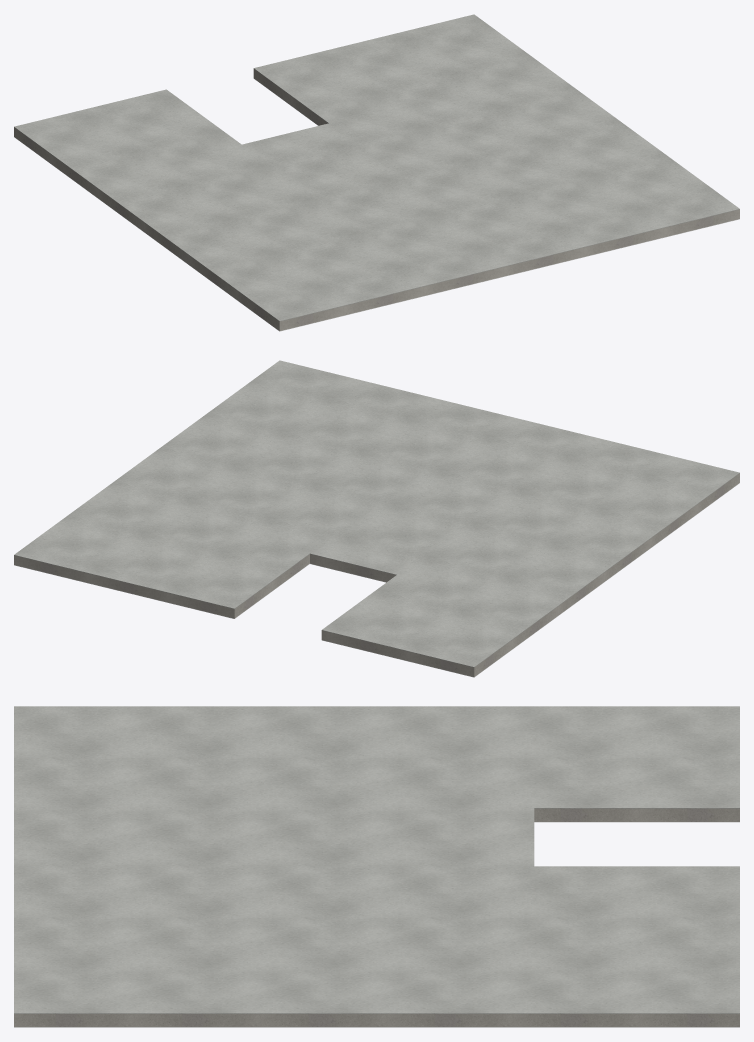
File: slab_roof.glb
3 renders of one model, top to bottom at view 1: azimuth 30°, elevation 25°; view 2: azimuth 150°, elevation 25°; view 3: azimuth 270°, elevation 25°, orthographic. The views are drawn at different scales.
Visible parts, largest first — view 1: slab_roof_membrane, slab_roof_concrete, slab_roof_ceil; view 2: slab_roof_membrane, slab_roof_concrete, slab_roof_ceil; view 3: slab_roof_membrane, slab_roof_concrete, slab_roof_ceil.
Part boxes in pixels (x1=…): slab_roof_membrane: x1=14, y1=14, x2=739, y2=321; slab_roof_concrete: x1=14, y1=69, x2=739, y2=330; slab_roof_ceil: x1=14, y1=78, x2=739, y2=331; slab_roof_membrane: x1=14, y1=360, x2=739, y2=667; slab_roof_concrete: x1=14, y1=473, x2=739, y2=676; slab_roof_ceil: x1=14, y1=483, x2=739, y2=677; slab_roof_membrane: x1=14, y1=706, x2=739, y2=1013; slab_roof_concrete: x1=14, y1=808, x2=739, y2=1026; slab_roof_ceil: x1=14, y1=822, x2=739, y2=1027.
Size of the model in its own units: 11.5 by 0.25 by 11.5.
Materials: 3 (2 with a texture image).
